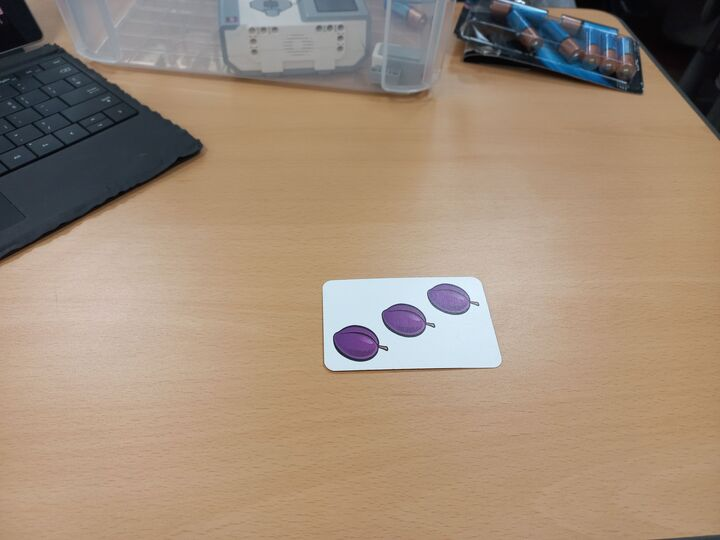plum3: (319, 276, 502, 373)
